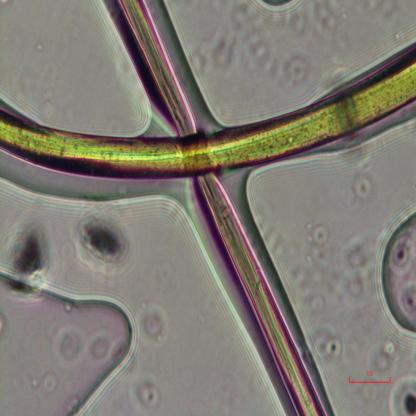Air bubble: (0, 167, 285, 415), (372, 207, 416, 336), (252, 0, 305, 22)
Background material: (199, 25, 309, 94), (0, 202, 58, 306), (72, 204, 143, 281), (293, 220, 337, 315), (57, 313, 113, 365), (338, 235, 372, 305), (133, 298, 172, 346), (339, 171, 378, 215), (310, 324, 347, 370), (386, 372, 416, 416), (127, 375, 162, 411), (371, 338, 399, 376)
Microfibre: (117, 1, 326, 415), (0, 50, 416, 183)
